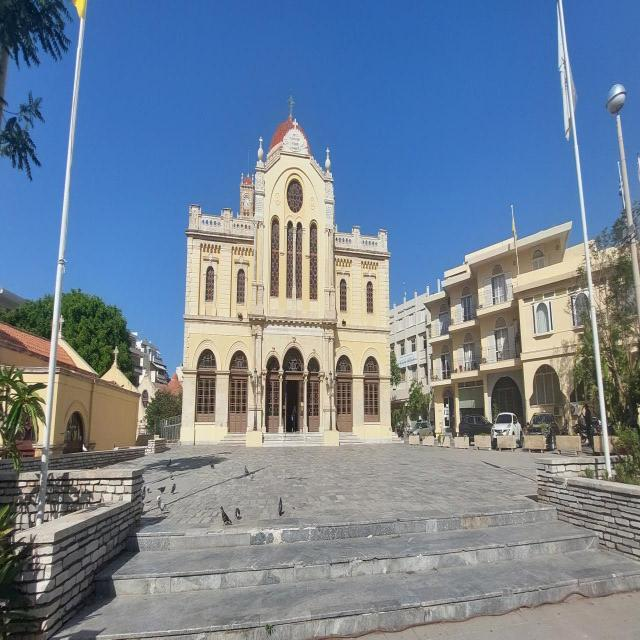Agios Minas: (182, 82, 394, 440)
